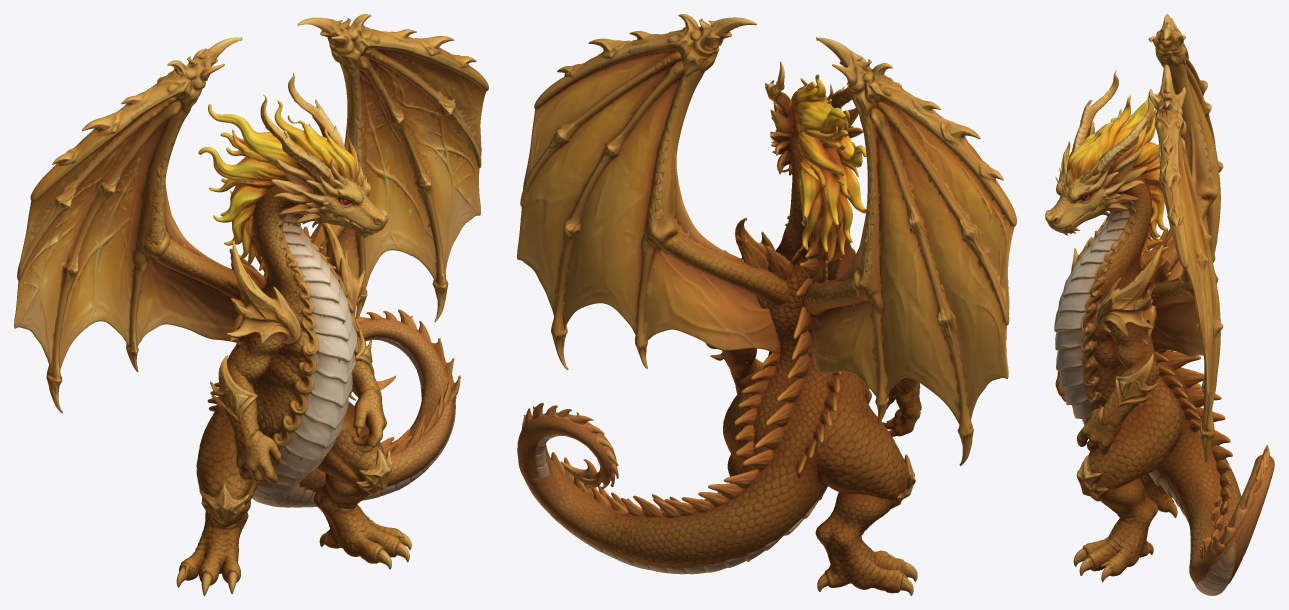
Rendered from gold-dragon.glb.
3 views of the same model, side by side, from view 1: azimuth 30°, elevation 25°; view 2: azimuth 150°, elevation 25°; view 3: azimuth 270°, elevation 25° (orthographic). The views are drawn at different scales.
Parts seen in each view (by area): view 1: tripo_node_d22a3bc1-d478-4eb8-a26e-7c3211f88a5a; view 2: tripo_node_d22a3bc1-d478-4eb8-a26e-7c3211f88a5a; view 3: tripo_node_d22a3bc1-d478-4eb8-a26e-7c3211f88a5a.
Boxes of the visible parts, bbox=[...] form: tripo_node_d22a3bc1-d478-4eb8-a26e-7c3211f88a5a: bbox=[14, 14, 488, 595]; tripo_node_d22a3bc1-d478-4eb8-a26e-7c3211f88a5a: bbox=[517, 14, 1016, 595]; tripo_node_d22a3bc1-d478-4eb8-a26e-7c3211f88a5a: bbox=[1045, 14, 1274, 595].
Size of the model in its own units: 0.9149 by 0.9797 by 0.4198.
1 material, 1 textured.
